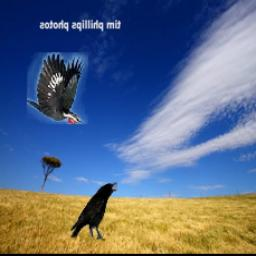Crow: (69, 182, 117, 242)
Woodpecker: (26, 52, 87, 124)
